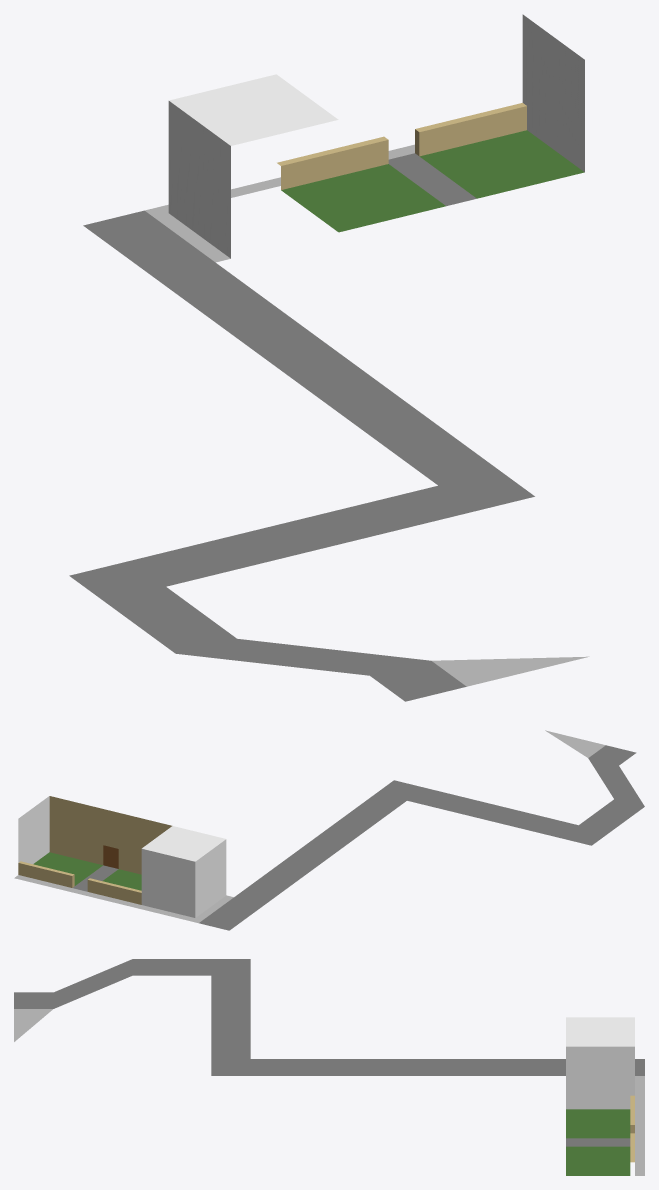
The model's file is lucena.glb.
3 views of the same model, one above another, from view 1: azimuth 30°, elevation 25°; view 2: azimuth 150°, elevation 25°; view 3: azimuth 270°, elevation 25° (orthographic). The views are drawn at different scales.
Visible parts, largest first — view 1: Alley, Buildings, Garden; view 2: Buildings, Alley, Garden; view 3: Alley, Buildings, Garden.
Part boxes in pixels (x1,y1,x2,y2): Alley: [69, 210, 589, 701]; Buildings: [145, 14, 584, 262]; Garden: [277, 103, 584, 232]; Buildings: [14, 796, 233, 922]; Alley: [199, 730, 644, 930]; Garden: [18, 852, 141, 904]; Alley: [14, 959, 644, 1075]; Buildings: [566, 1017, 644, 1175]; Garden: [566, 1095, 634, 1175].
Size of the model in its own units: 52 by 7 by 64.
